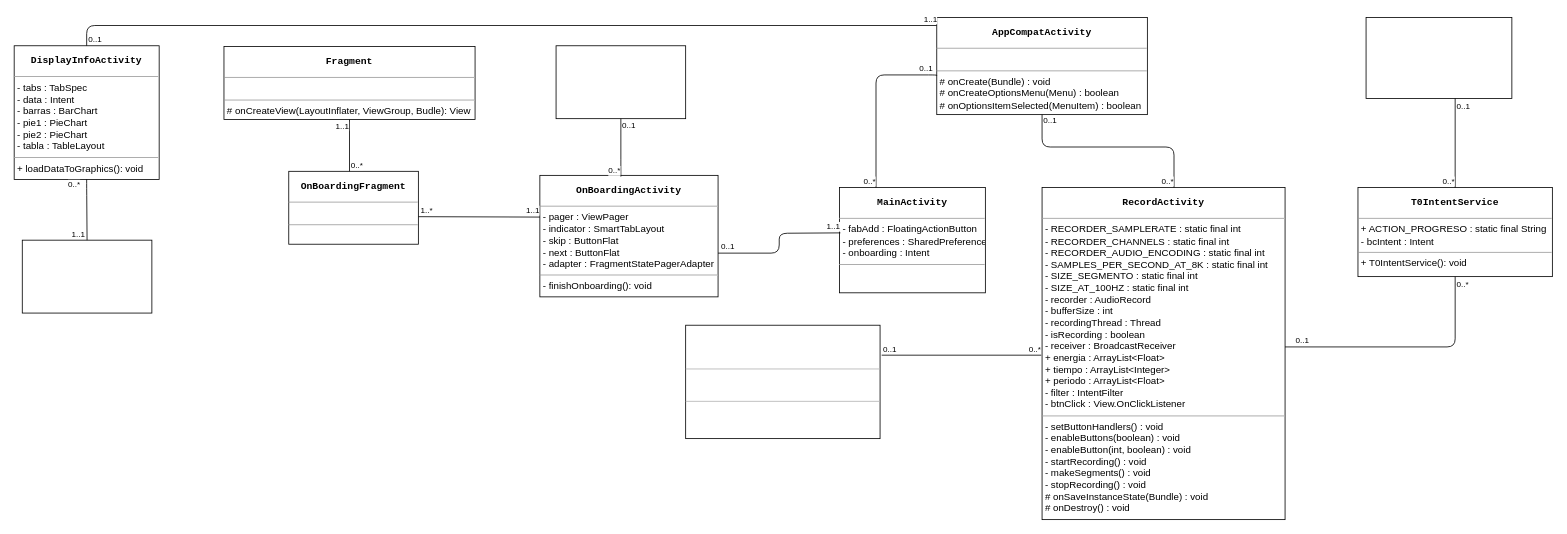
Some shapes in this 1567 by 534 pixel diagram are drawn without their labels. The shapes that lost their labels are listed below. From the top down, each one's box as (x1, y1, x2, y2) in pixels, then its label:
(1365, 17, 1512, 98): IntentService # onHandleIntent(Intent) : void
(555, 45, 686, 119): FragmentActivity # onCreate(): void
(21, 239, 152, 313): MPAndroidChart
(685, 324, 880, 439): <<Interface>> BroadcastReceiver + onReceive(Context, Intent): abstract void
